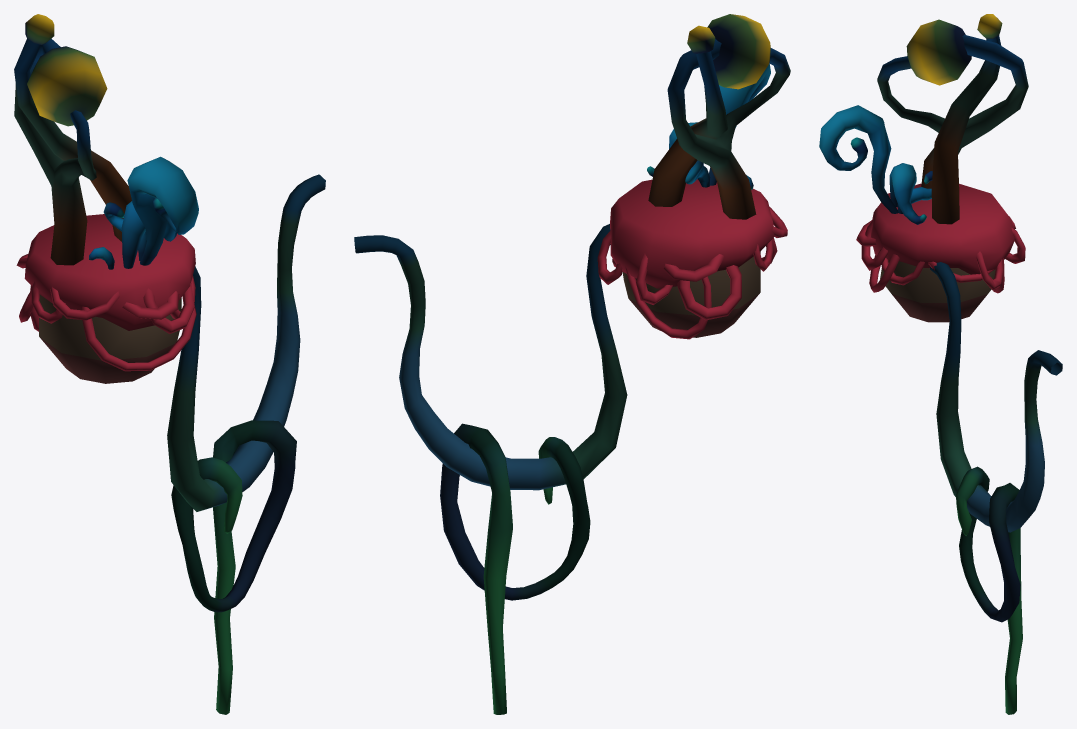
The model's file is Alien_Island11.fbx.
3 renders of one model, left to right at view 1: azimuth 30°, elevation 25°; view 2: azimuth 150°, elevation 25°; view 3: azimuth 270°, elevation 25°, orthographic. The views are drawn at different scales.
Parts seen in each view (by area): view 1: Alien_Island11; view 2: Alien_Island11; view 3: Alien_Island11.
Boxes of the visible parts, left/top/right/bottom form: Alien_Island11: left=14, top=14, right=325, bottom=714; Alien_Island11: left=354, top=14, right=790, bottom=714; Alien_Island11: left=819, top=14, right=1062, bottom=714.
Bounding box in the file's own units: 7239 × 14433 × 5147.
